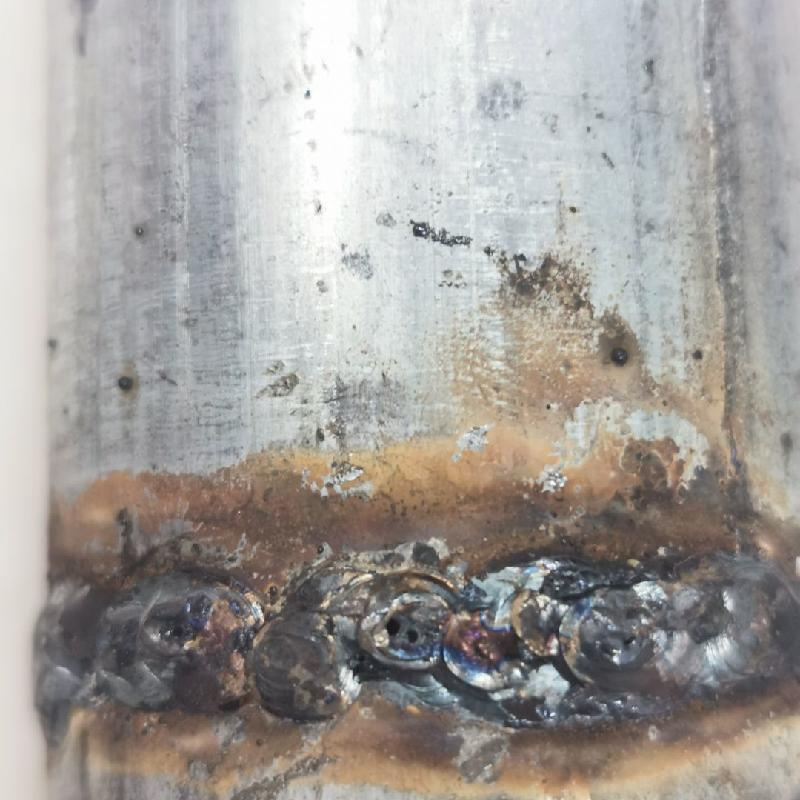Surface_pores: (373, 601, 436, 665), (151, 603, 208, 663)
crater: (343, 575, 644, 722)
wrong_size: (645, 564, 799, 698)
